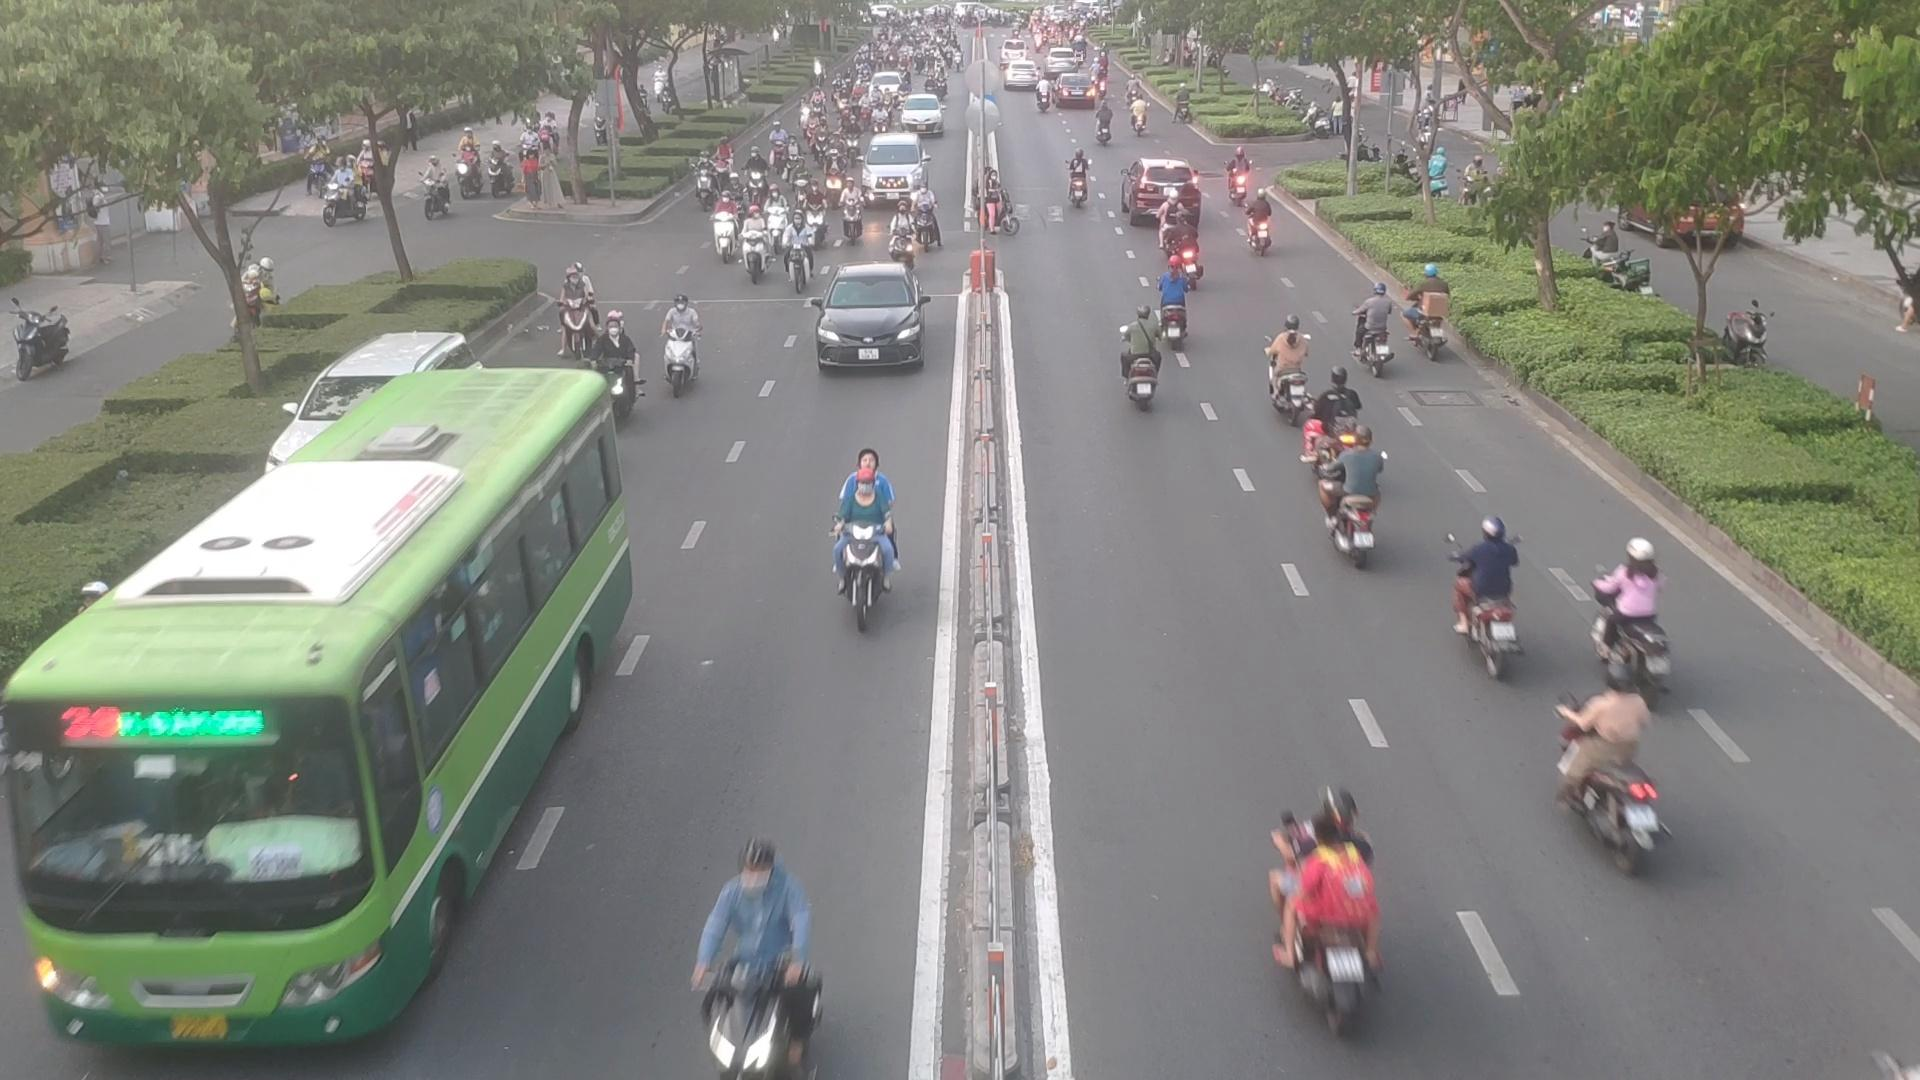bus: (15, 380, 626, 1058)
car: (806, 266, 930, 371)
motorbike: (679, 847, 818, 1077), (1261, 808, 1394, 1033), (1557, 687, 1685, 869), (820, 452, 902, 632), (1592, 531, 1677, 690), (1448, 520, 1528, 671), (1303, 419, 1385, 562), (1116, 310, 1178, 409), (1410, 264, 1462, 367), (1266, 320, 1316, 421), (654, 293, 704, 390), (1357, 281, 1396, 371), (733, 219, 779, 284), (884, 206, 926, 268), (1159, 256, 1189, 339), (1242, 187, 1279, 255), (1059, 152, 1098, 212), (709, 210, 745, 262)
